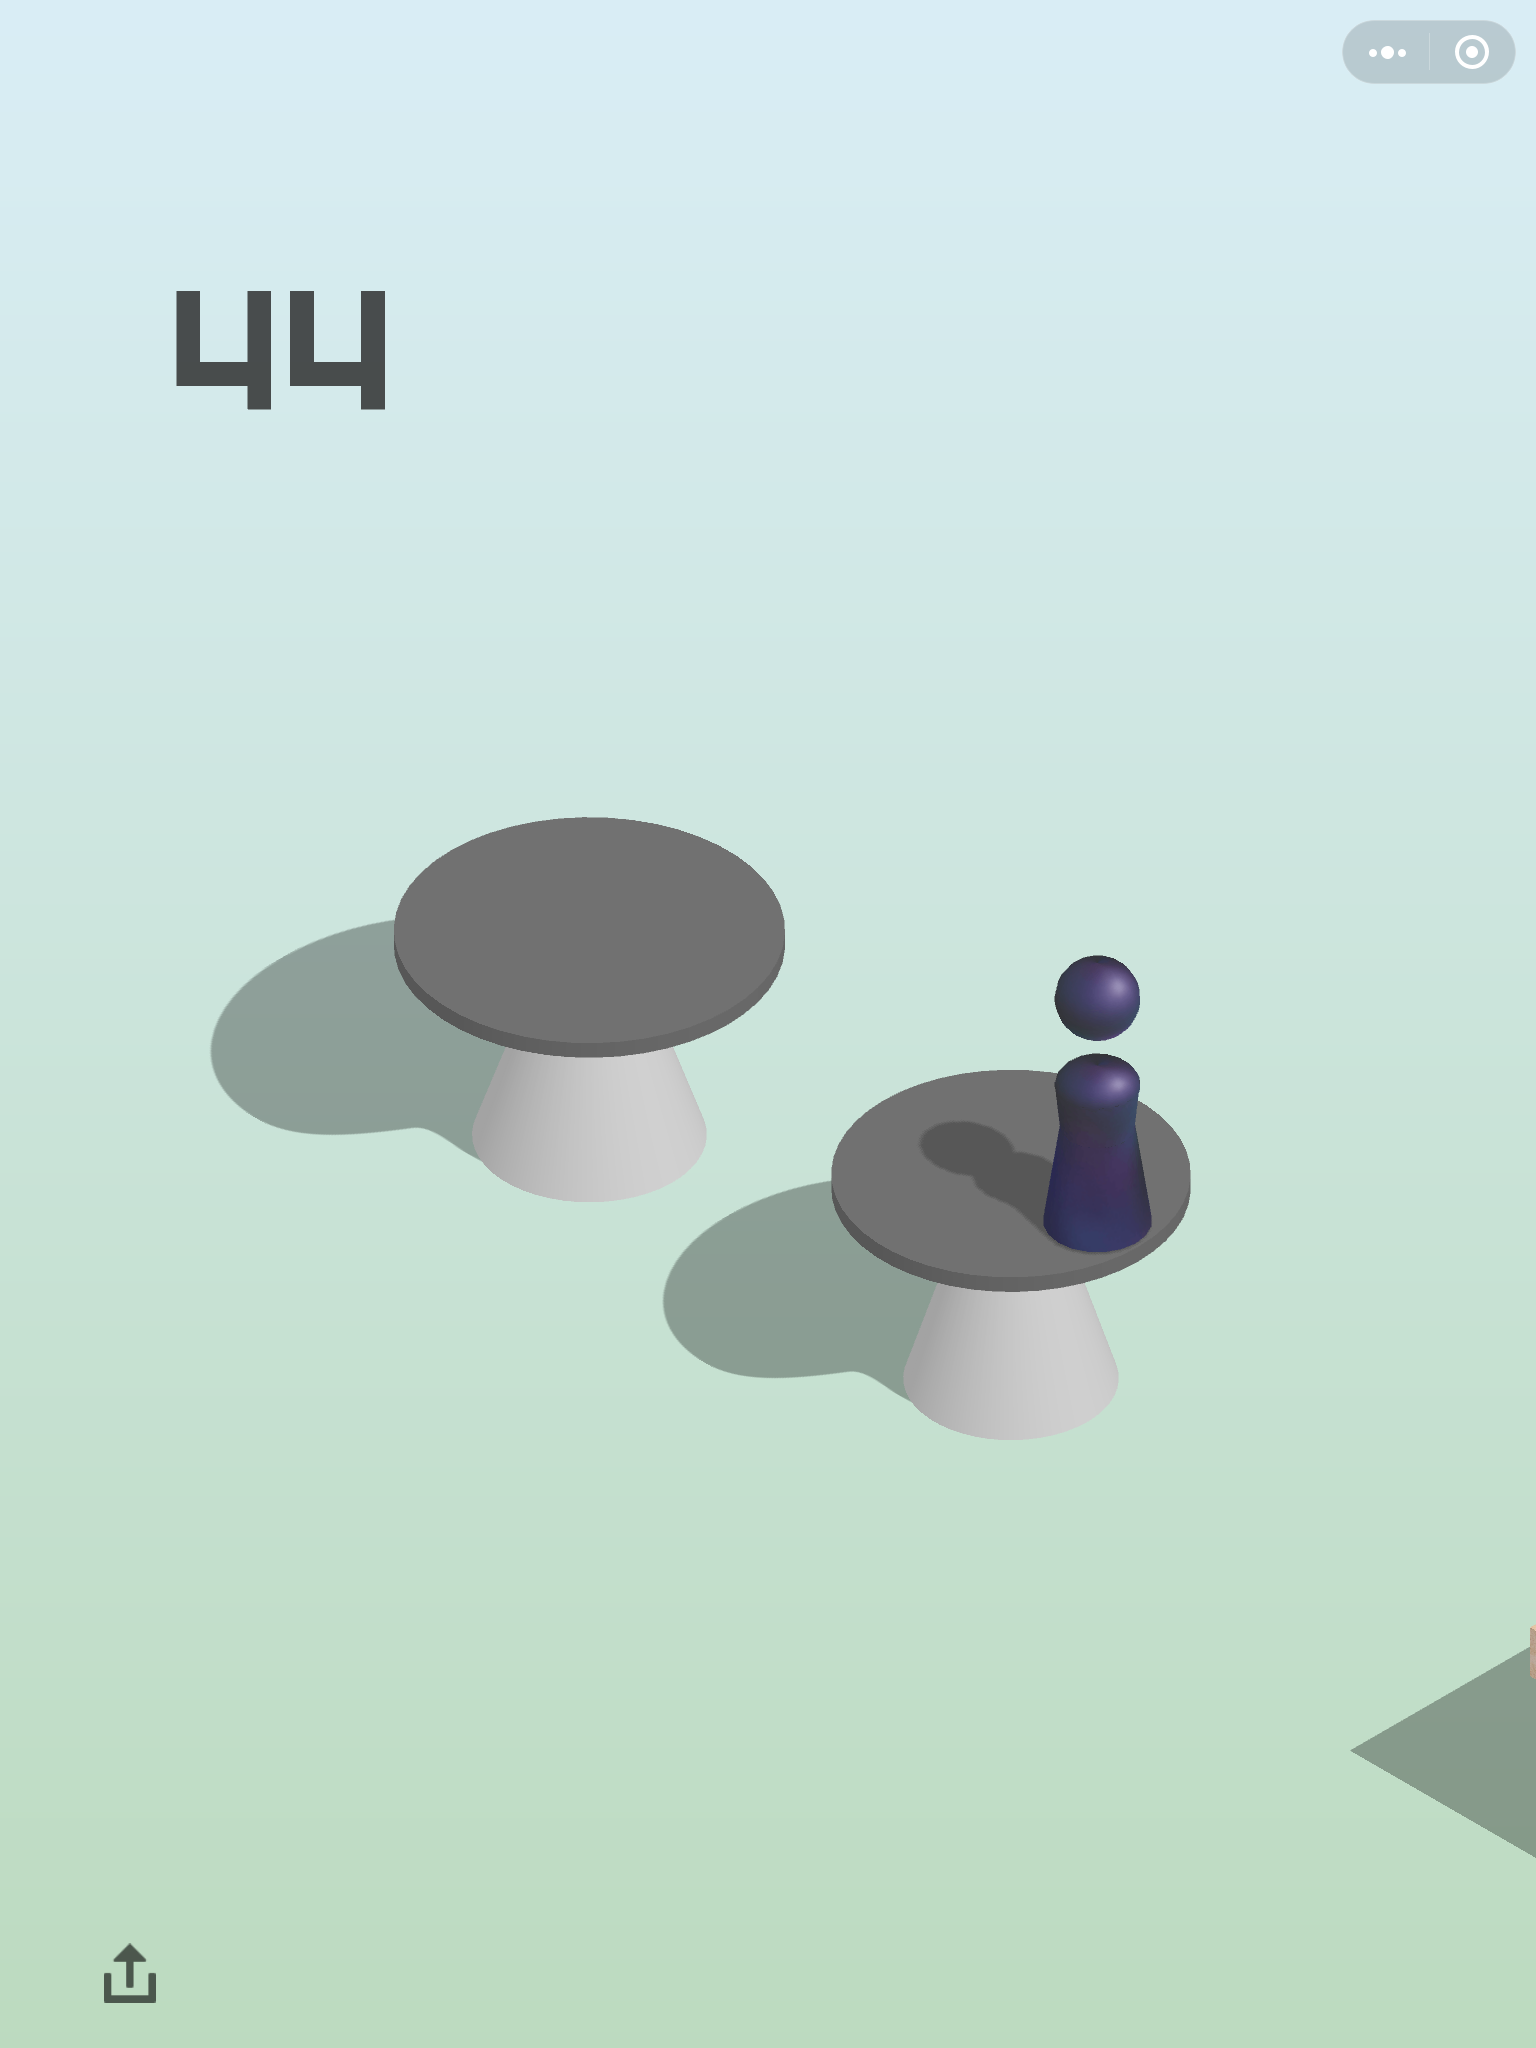c: (386, 811, 792, 1213), (826, 1064, 1199, 1447)
r: (1037, 947, 1157, 1256)
